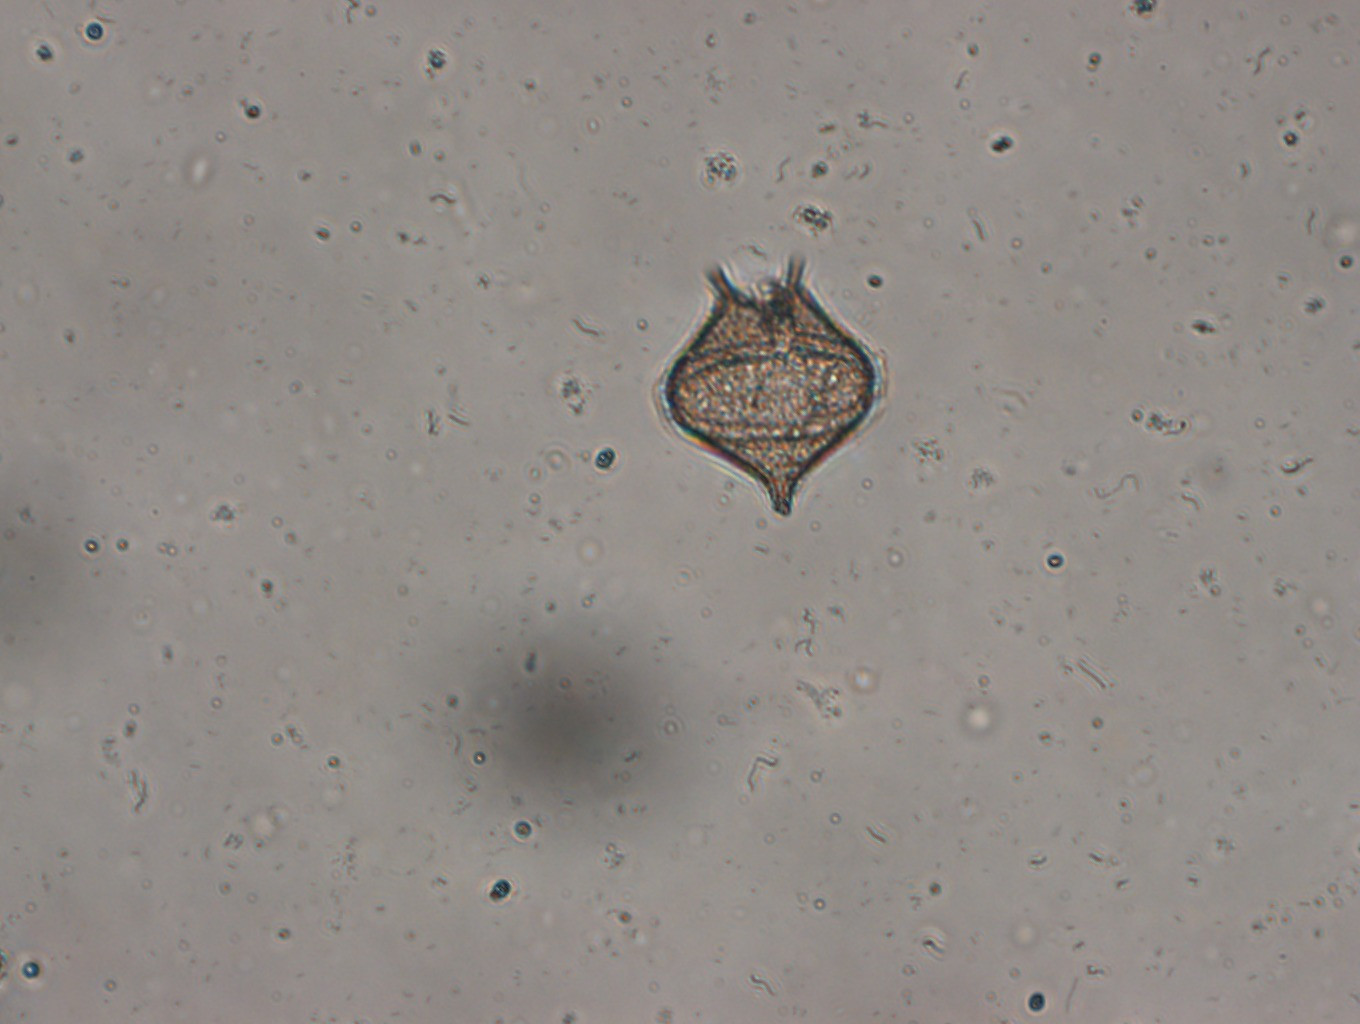protoperidinium: (642, 247, 892, 524)
